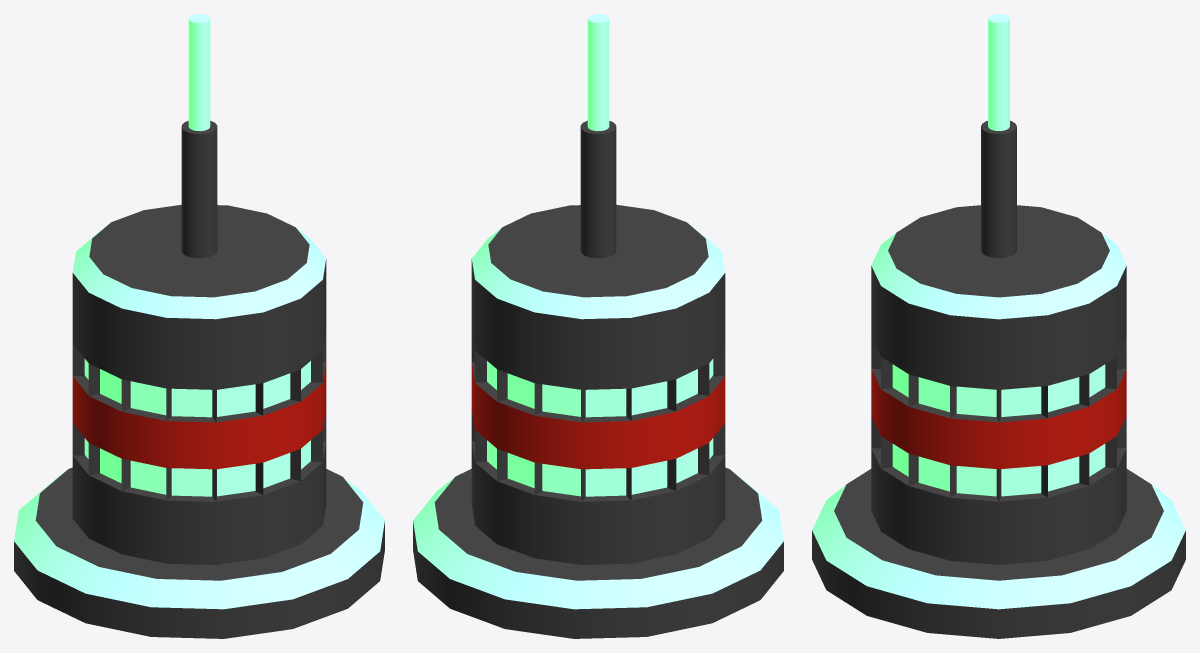
Rendered from powercell.fbx.
The picture shows the model from 3 angles, left to right: view 1: azimuth 30°, elevation 25°; view 2: azimuth 150°, elevation 25°; view 3: azimuth 270°, elevation 25°; orthographic projection.
Parts seen in each view (by area): view 1: Cylinder; view 2: Cylinder; view 3: Cylinder.
Part boxes in pixels (x1,y1,x2,y2): Cylinder: (14, 14, 384, 638); Cylinder: (413, 14, 783, 638); Cylinder: (812, 14, 1185, 638).
Bounding box in the file's own units: 200 × 320 × 200.
